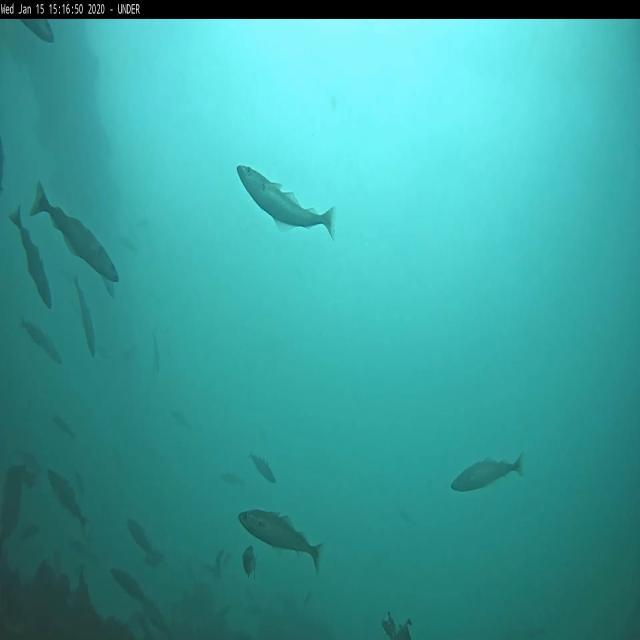fish: (29, 180, 118, 284), (235, 166, 336, 235), (239, 506, 319, 568), (10, 203, 52, 310), (451, 452, 526, 492), (50, 469, 88, 526), (74, 278, 98, 358), (23, 321, 64, 364), (111, 566, 150, 607), (128, 520, 155, 559), (250, 452, 276, 483), (22, 20, 56, 42), (169, 408, 193, 428), (242, 547, 258, 576), (54, 416, 76, 436), (214, 471, 244, 485), (150, 334, 158, 377)
